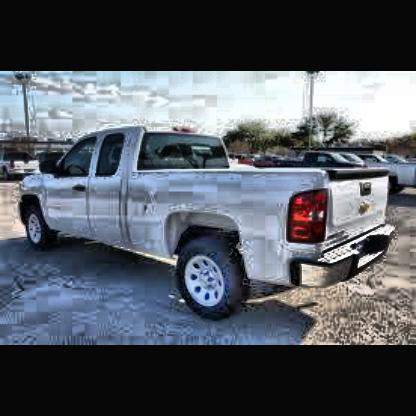Chevrolet Silverado 1500 Extended Cab 2012: (20, 127, 399, 322)
